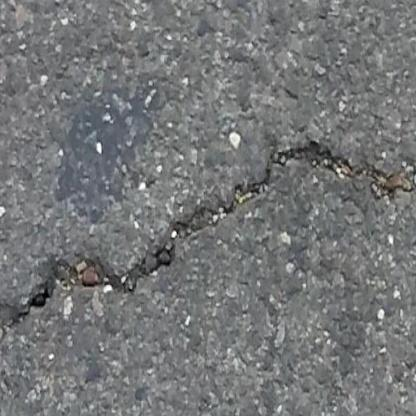Cracks: (0, 124, 416, 360)
